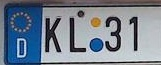character: (44, 16, 63, 53), (104, 16, 122, 53), (69, 17, 87, 52), (128, 15, 139, 52)
